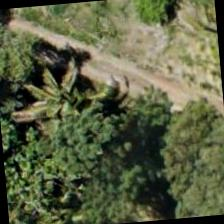Kelapa_Sawit: (18, 177, 113, 223)
